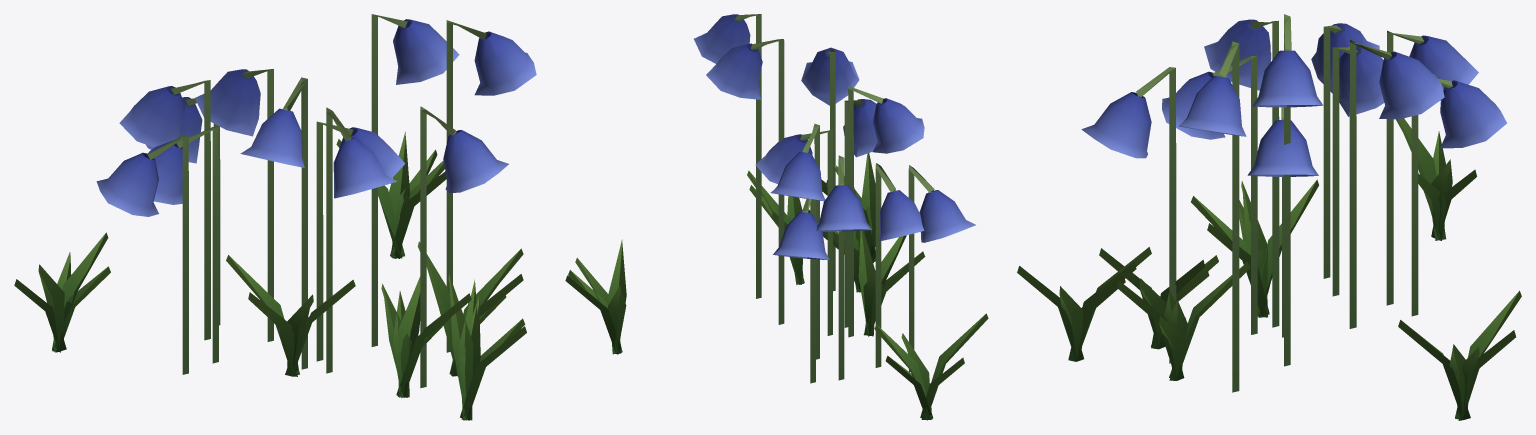
Rendered from fp_harebell.glb.
3 renders of one model, left to right at view 1: azimuth 30°, elevation 25°; view 2: azimuth 150°, elevation 25°; view 3: azimuth 270°, elevation 25°, orthographic. The views are drawn at different scales.
Parts seen in each view (by area): view 1: fp_harebell; view 2: fp_harebell; view 3: fp_harebell.
Part boxes in pixels (left/top/right/bottom): fp_harebell: left=14, top=14, right=536, bottom=420; fp_harebell: left=565, top=14, right=988, bottom=420; fp_harebell: left=1017, top=14, right=1521, bottom=420.
Size of the model in its own units: 0.8385 by 0.5921 by 0.7755.
